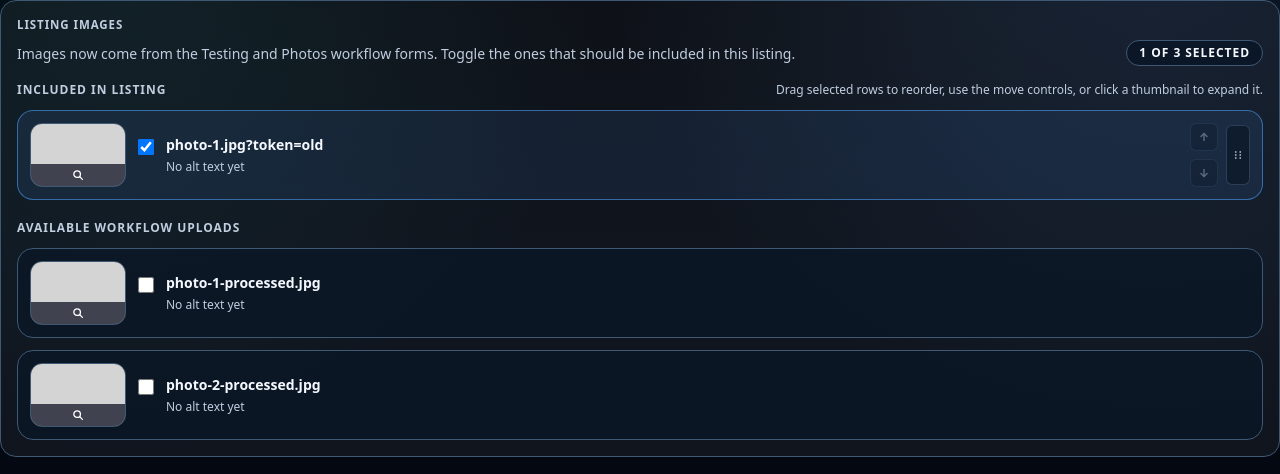
Test: WorkflowListingImageSelector › adds available query-id variants to selected images when checked
expect the number of elements with test id "available-listing-image-card" is 2: met, box [17,248,1263,338]; [17,350,1263,440]
expect the element with test id "available-listing-image-card" is shown: met, box [17,248,1263,338]
Click the checkbox next to "photo-1-processed.jpg".
click(146, 285)  # box [138,277,154,293]
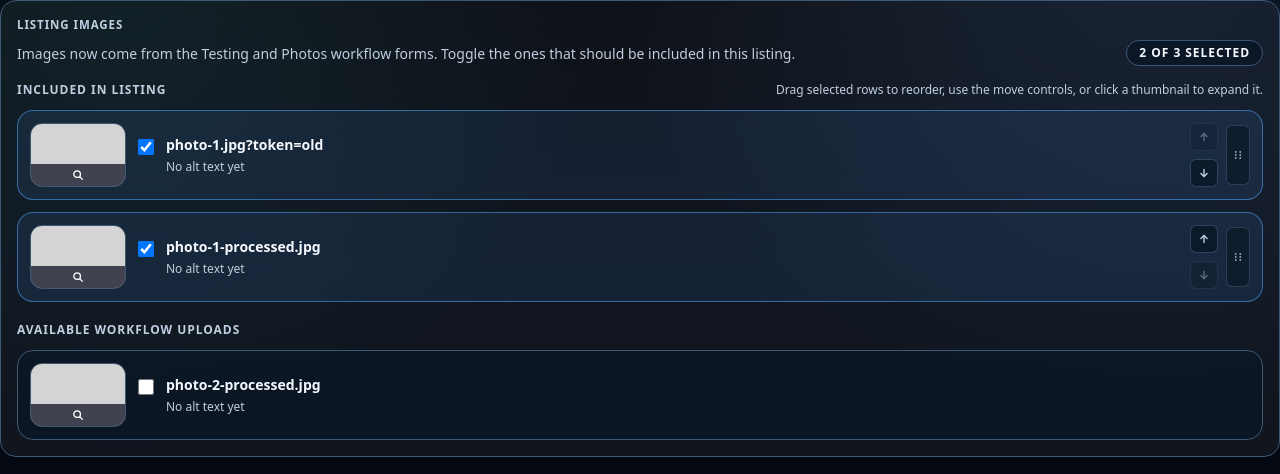
expect the number of elements with test id "available-listing-image-card" is 1: met, box [17,350,1263,440]
expect the number of elements with test id "selected-listing-image-card" is 2: met, box [17,110,1263,200]; [17,212,1263,302]
